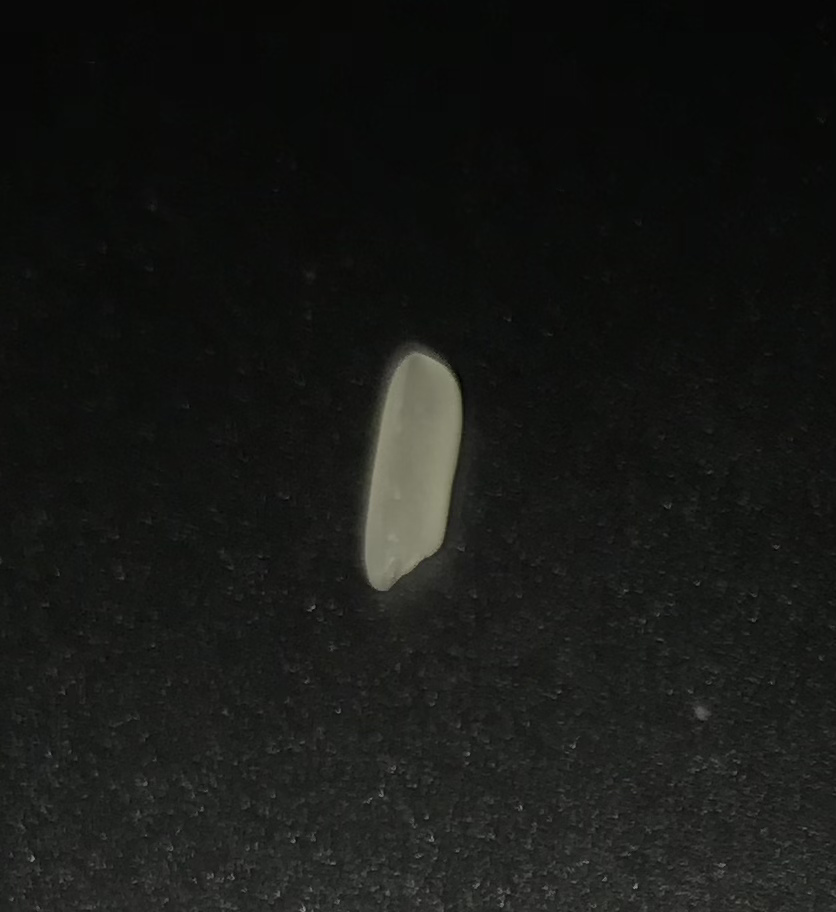Gao Thom My: (360, 339, 462, 600)
